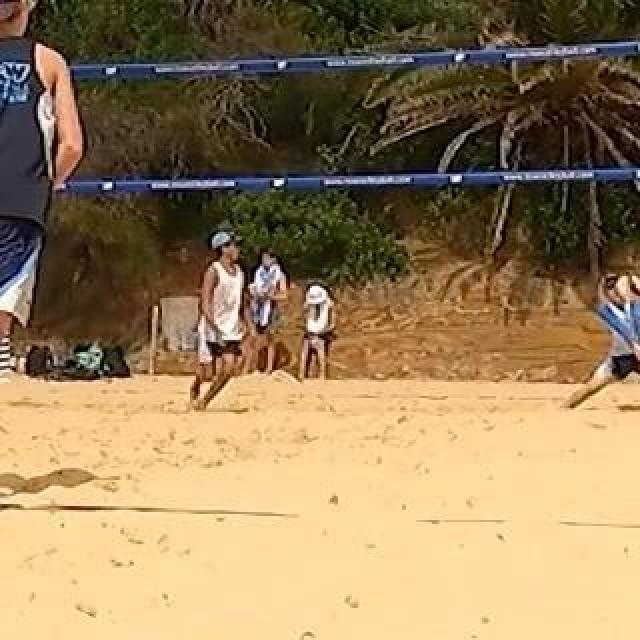volleyball: (616, 275, 640, 301)
